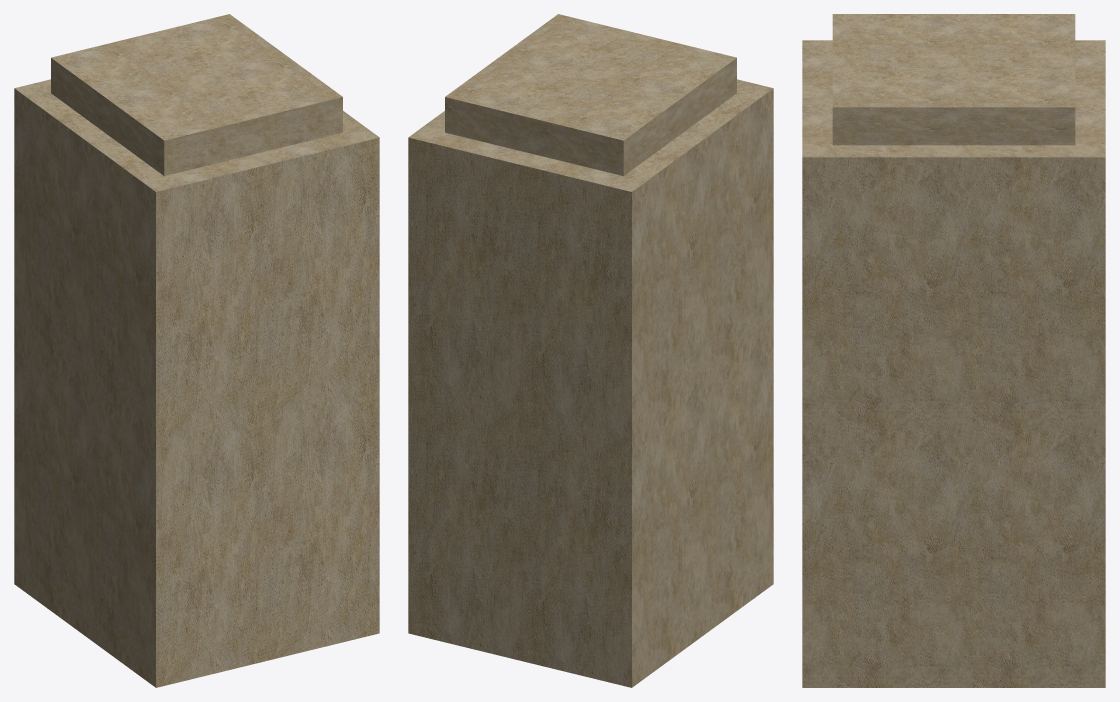
File: thm_nboo_imprv_pillar_ornate_pillar_s01_l0.fbx
3 renders of one model, left to right at view 1: azimuth 30°, elevation 25°; view 2: azimuth 150°, elevation 25°; view 3: azimuth 270°, elevation 25°, orthographic. The views are drawn at different scales.
Visible parts, largest first — view 1: mesh_node; view 2: mesh_node; view 3: mesh_node.
Part boxes in pixels (<box>): mesh_node: <box>14,14,379,687</box>; mesh_node: <box>408,14,773,687</box>; mesh_node: <box>802,14,1105,687</box>.
Bounding box in the file's own units: 0.7437 × 1.69 × 0.8169.
